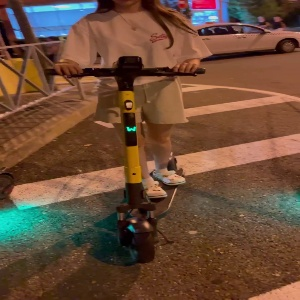human on a scooter: (44, 1, 213, 265)
